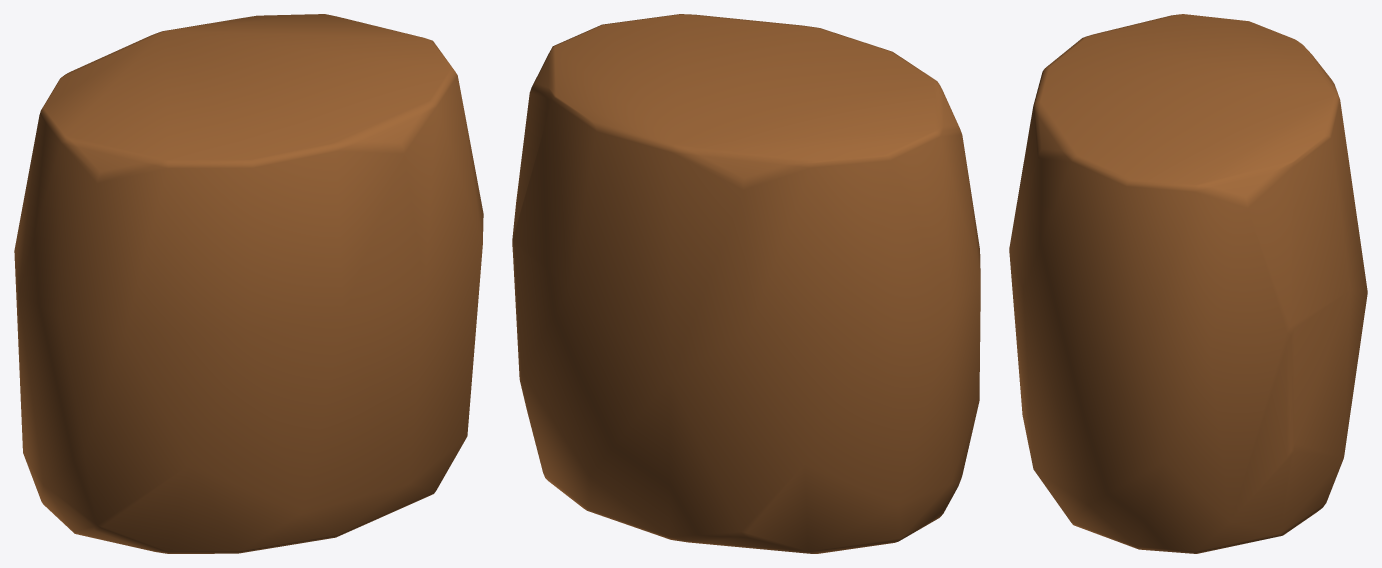
The model's file is barrel_proxy.glb.
The picture shows the model from 3 angles, left to right: view 1: azimuth 30°, elevation 25°; view 2: azimuth 150°, elevation 25°; view 3: azimuth 270°, elevation 25°; orthographic projection. The views are drawn at different scales.
Parts seen in each view (by area): view 1: barrel_proxy; view 2: barrel_proxy; view 3: barrel_proxy.
Part boxes in pixels (x1,y1,x2,y2): barrel_proxy: (14, 14, 483, 553); barrel_proxy: (512, 14, 980, 553); barrel_proxy: (1009, 14, 1367, 553).
Size of the model in its own units: 1.02 by 0.8898 by 0.7762.
